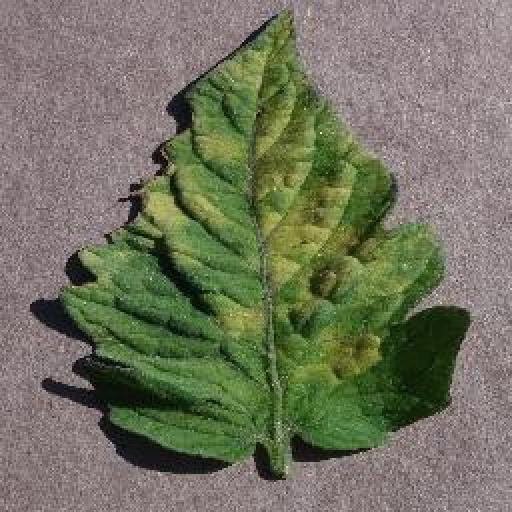Leaf Mold: (62, 8, 475, 465)
